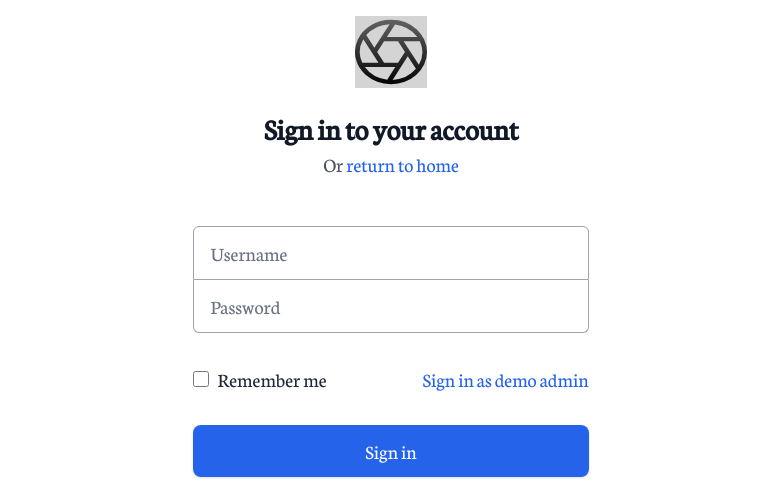
Login component › attempting to sign in with no password will generate alert error
Type "test username" into the field with placeholder "Username".
click(391, 253); type("test username")  # box [193,226,588,280]
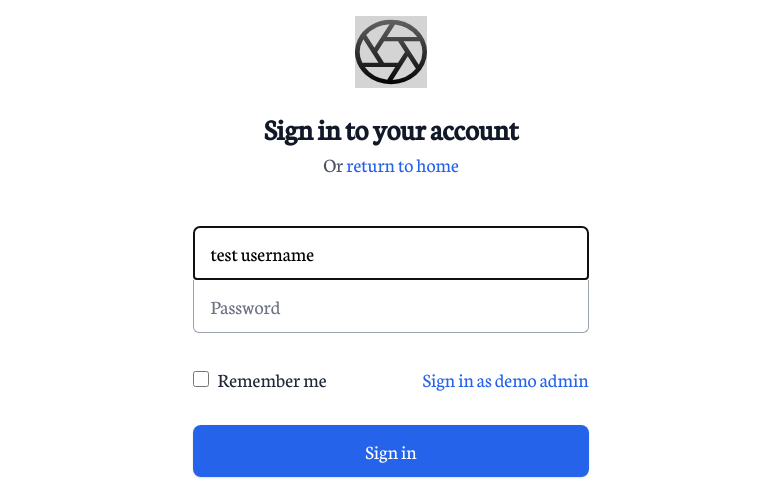
Click the button "Sign in".
click(391, 451)  # box [193,425,588,477]
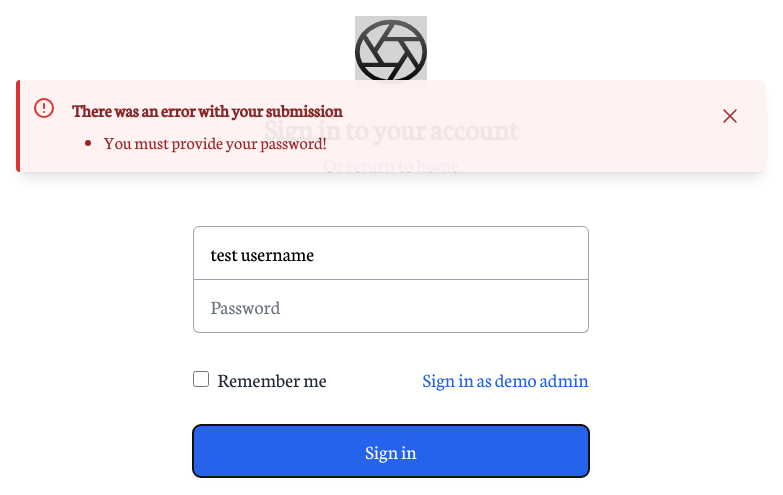
Now the message "There was an error with your submission You must provide your password!" is shown, box [16,80,766,172]
Now the number of list items is 1, box [104,128,342,156]
Now the list item reads "You must provide your password!", box [104,130,326,153]
